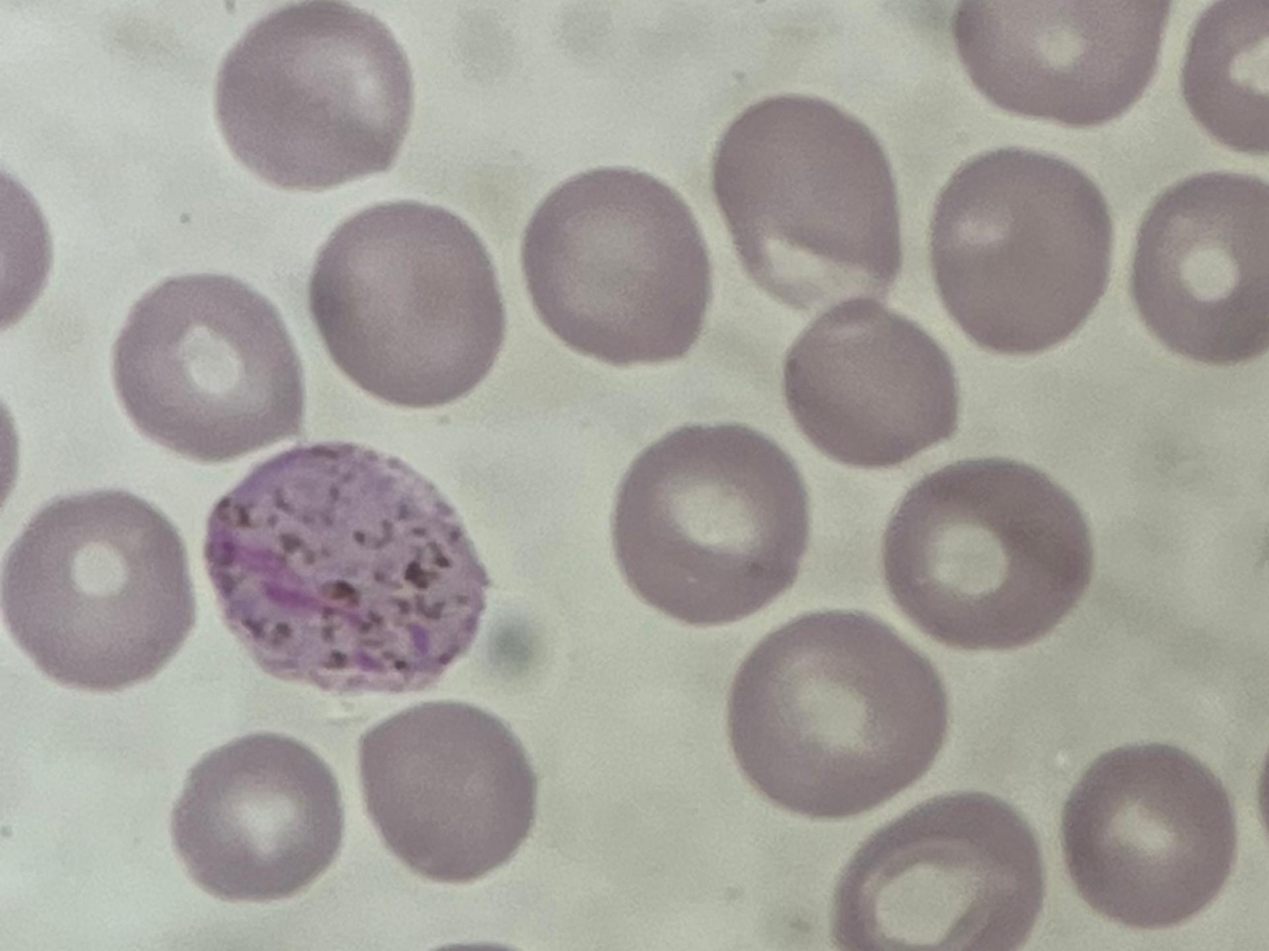Infected: (207, 446, 485, 702)
Uninfected: (734, 604, 955, 813), (881, 450, 1094, 655), (714, 93, 900, 321), (606, 426, 811, 630), (304, 203, 504, 405), (0, 483, 191, 693), (211, 5, 416, 196), (930, 146, 1112, 359), (524, 164, 708, 362), (110, 274, 303, 459), (835, 785, 1049, 951), (359, 699, 532, 888), (1064, 737, 1234, 927), (174, 730, 344, 908), (947, 0, 1174, 133), (787, 292, 961, 461), (1132, 168, 1269, 362)
